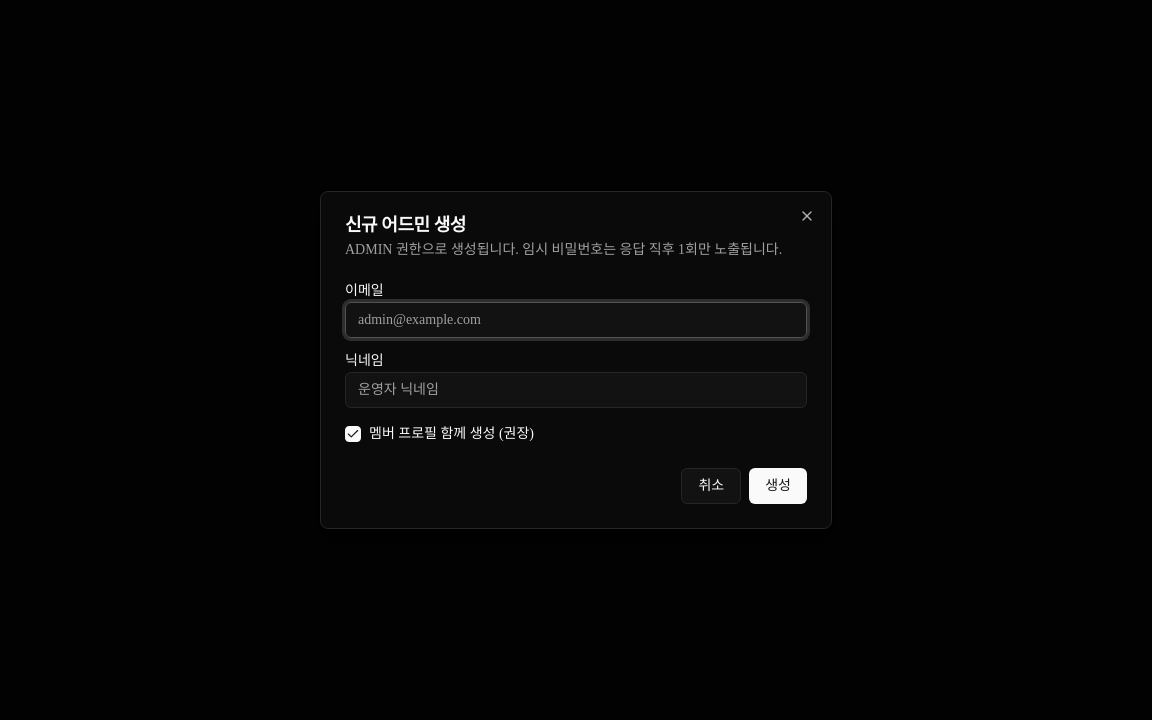
it: CreateAdministratorDialog › 입력 검증 — 이메일 형식 위반 시 에러 표시 + submit 차단
Type "not-an-email" into the field labelled "이메일".
click(576, 320); type("not-an-email")  # box x1=345 y1=302 x2=807 y2=338
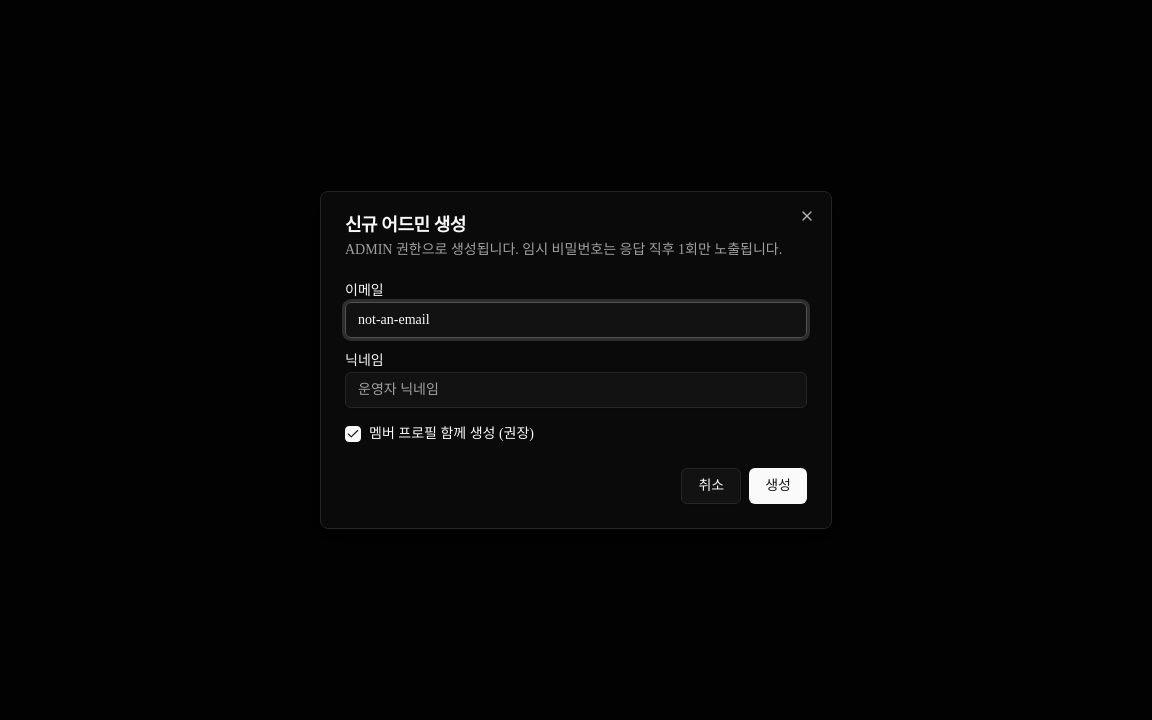
Type "운영자" into the field labelled "닉네임".
click(576, 390); type("운영자")  # box x1=345 y1=372 x2=807 y2=408
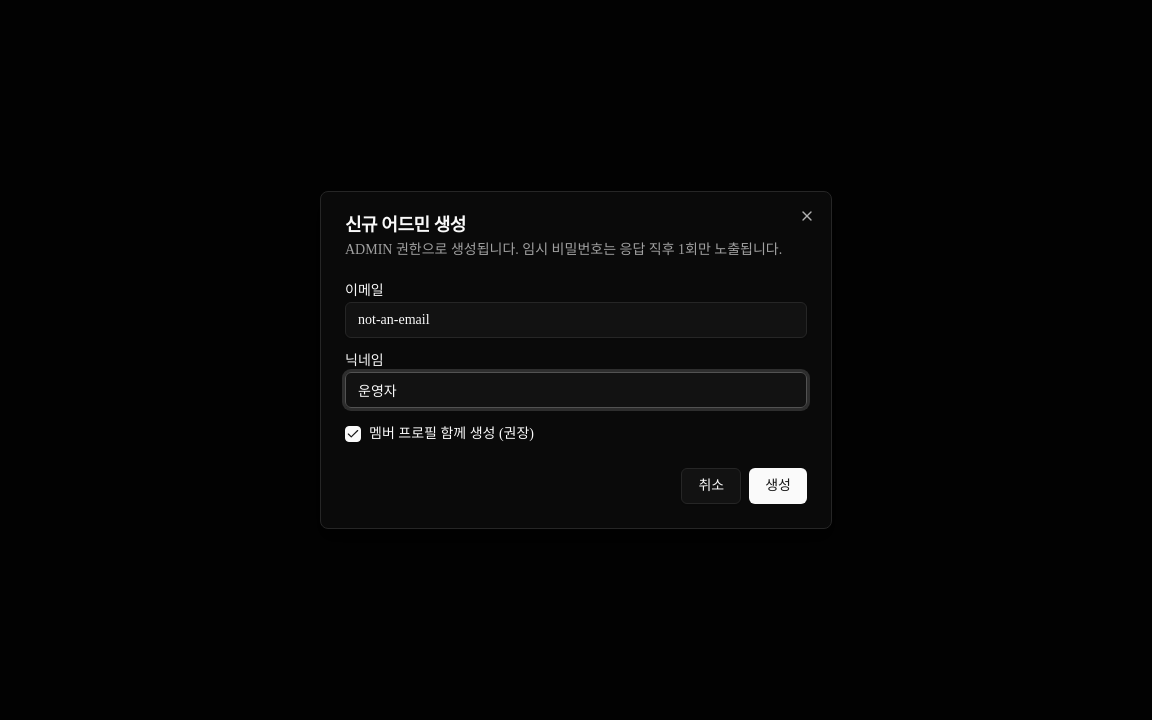
Click the button "생성".
click(778, 486)  # box x1=749 y1=468 x2=807 y2=504
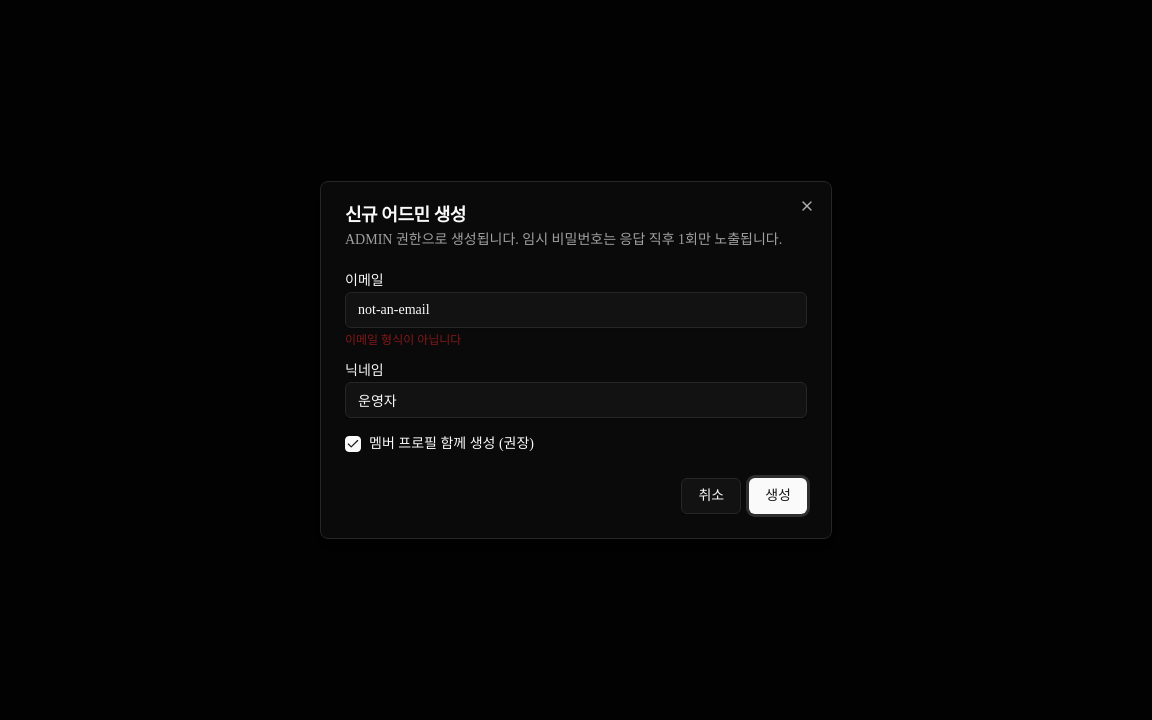
Now the text "이메일 형식이 아닙니다" is shown, box x1=345 y1=333 x2=461 y2=347
